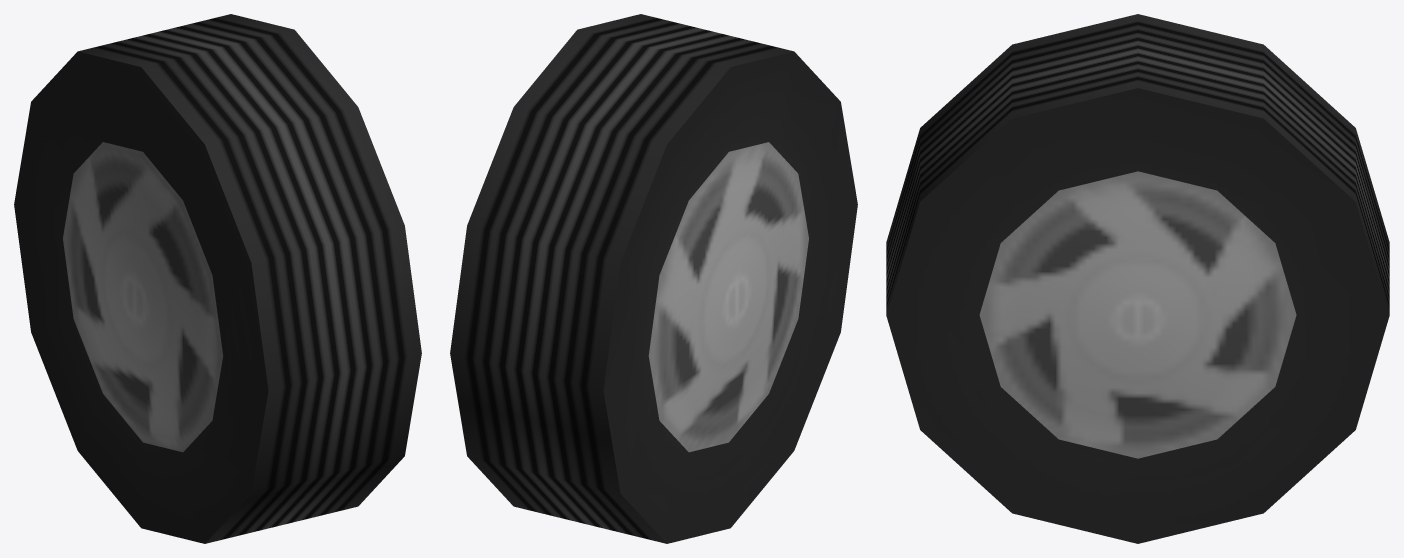
File: DxCovetWheel.fbx
The picture shows the model from 3 angles, left to right: view 1: azimuth 30°, elevation 25°; view 2: azimuth 150°, elevation 25°; view 3: azimuth 270°, elevation 25°; orthographic projection.
Visible parts, largest first — view 1: WheelCovetA; view 2: WheelCovetA; view 3: WheelCovetA.
Boxes of the visible parts, x1,y1,x2,y2 form: WheelCovetA: (14, 14, 421, 543); WheelCovetA: (450, 14, 857, 543); WheelCovetA: (886, 14, 1389, 543).
Size of the model in its own units: 0.2353 by 0.6253 by 0.6253.
